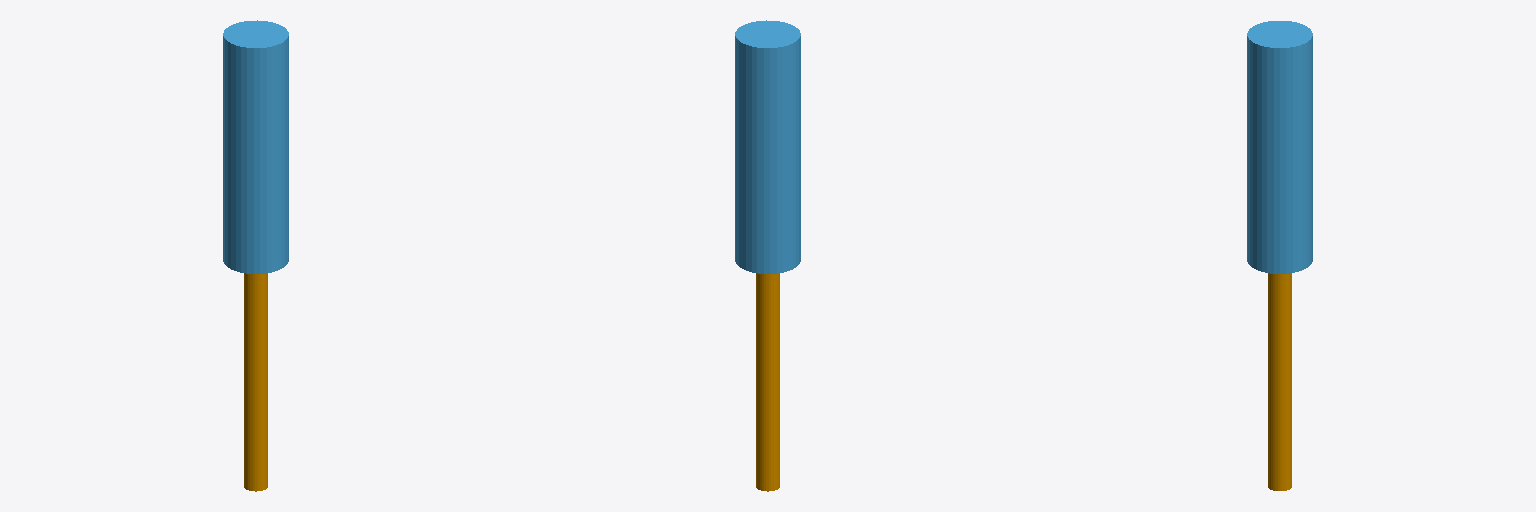
robot.urdf — screwdriver_on_the_table:
<?xml version="1.0" ?>
<!-- this is the one without any virtual joints and links -->
<robot name="screwdriver_on_the_table">
<link name="screwdriver_stick">
    <inertial>
      <mass value="0.05"/>
      <!-- <friction value="1.0"/> -->
      <inertia ixx="0.000041979" ixy="0.0" ixz="0.0" iyy="0.000041979" iyz="0.0" izz="0.000000625"/>
    </inertial>
    <visual>
        <origin rpy="0 0 0" xyz="0 0 0.05"/>
        <geometry>
            <cylinder radius="0.005" length="0.1"/>
        </geometry>
        <!-- <material name="White">
	 	    <color rgba="0.9 0.9 0.9 0.5"/>
        </material> -->
    </visual>
    <collision>
        <origin rpy="0 0 0" xyz="0 0 0.05"/>
        <geometry>
            <cylinder radius="0.005" length="0.1"/>
        </geometry>
    </collision>
</link>

<gazebo reference="screwdriver_body">
    <mu1>0.980616</mu1>
    <mu2>1.161497</mu2>
    <!-- Isaac Sim maps mu1/mu2 to PhysX static/dynamic friction during URDF→USD import -->
</gazebo>

<joint name="screwdriver_stick_body_joint" type="fixed">
    <parent link="screwdriver_stick"/>
    <child link="screwdriver_body"/>
    <origin rpy="0 0 0" xyz="0 0 0.1"/> 
    <axis xyz="0 0 1"/>
</joint>

<link name="screwdriver_body">
    <inertial>
      <mass value="0.186970"/>
      <inertia ixx="0.000163940" ixy="0.0" ixz="0.0" iyy="0.000163940" iyz="0.0" izz="0.000016263"/>
    </inertial>
    <visual>
        <origin rpy="0 0 0" xyz="0 0 0.05"/>
        <geometry>
            <cylinder radius="0.013189" length="0.1"/>
        </geometry>
        <!-- <material name="Red1">
	 	    <color rgba="0.9 0. 0. 0.5"/>
        </material> -->
    </visual>
    <collision>
        <origin rpy="0 0 0" xyz="0 0 0.05"/>
        <geometry>
            <cylinder radius="0.013189" length="0.1"/>
        </geometry>
    </collision>
</link>

<!-- <joint name="screwdriver_body_cap_joint" type="revolute">
    <parent link="screwdriver_body"/>
    <child link="screwdriver_cap"/>
    <origin rpy="0 0 0" xyz="0 0 0.1"/> 
    <axis xyz="0 0 1"/>
</joint>

<link name="screwdriver_cap">
    <inertial>
      <mass value="0.005"/>
      <inertia ixx="0.00001" ixy="0.0" ixz="0.0" iyy="0.000005" iyz="0.0" izz="0.000005"/>
    </inertial>
    <visual>
        <origin rpy="0 0 0" xyz="0 0 0.0006"/>
        <geometry>
            <cylinder radius="0.02" length="0.001"/>
        </geometry>
        <material name="Yellow">
	 	    <color rgba="0.9 0.9 0. 1.0"/>
        </material>
    </visual>
    <collision>
        <origin rpy="0 0 0" xyz="0 0 0.0005"/>
        <geometry>
            <cylinder radius="0.02" length="0.001"/>
        </geometry>
    </collision>
</link> -->

</robot>

--- Render facts (derived) ---
3 views of the same robot in one strip: view 1: azimuth 30°, elevation 25°; view 2: azimuth 150°, elevation 25°; view 3: azimuth 270°, elevation 25° (orthographic).
Model screwdriver_on_the_table with 2 links and 1 joints (1 fixed), rooted at screwdriver_stick, posed every joint at zero.
Visible links, largest first — view 1: screwdriver_body, screwdriver_stick; view 2: screwdriver_body, screwdriver_stick; view 3: screwdriver_body, screwdriver_stick.
Link boxes in pixels (x1=…): screwdriver_body: x1=223, y1=20, x2=288, y2=273; screwdriver_stick: x1=244, y1=273, x2=267, y2=491; screwdriver_body: x1=735, y1=20, x2=800, y2=273; screwdriver_stick: x1=756, y1=273, x2=779, y2=491; screwdriver_body: x1=1247, y1=21, x2=1312, y2=273; screwdriver_stick: x1=1268, y1=273, x2=1291, y2=490.
Size in the robot's own frame: 0.0264 by 0.0264 by 0.2 metres.
Geometry: primitives only (box / cylinder / sphere), no mesh files.
